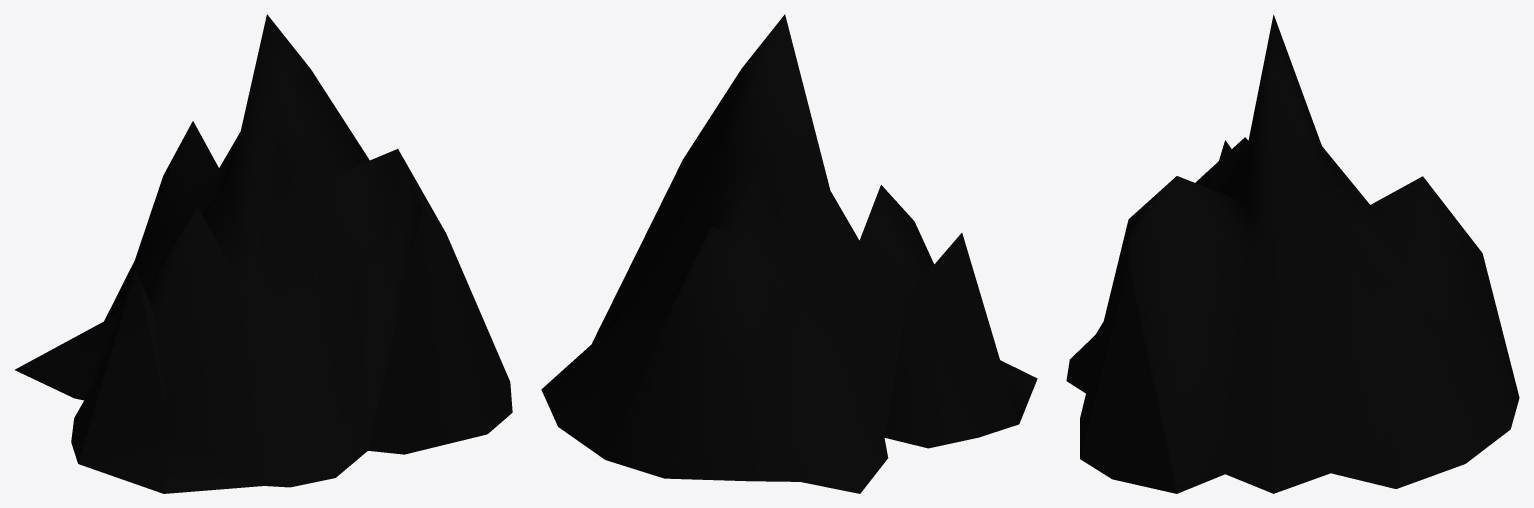
The model's file is Rock01.fbx.
The picture shows the model from 3 angles, left to right: view 1: azimuth 30°, elevation 25°; view 2: azimuth 150°, elevation 25°; view 3: azimuth 270°, elevation 25°; orthographic projection.
Parts seen in each view (by area): view 1: Rock01; view 2: Rock01; view 3: Rock01.
Boxes of the visible parts, bbox=[...] form: Rock01: bbox=[15, 14, 512, 493]; Rock01: bbox=[541, 14, 1037, 493]; Rock01: bbox=[1066, 14, 1519, 493].
Bounding box in the file's own units: 843 × 751 × 803.
1 material, 1 textured.
